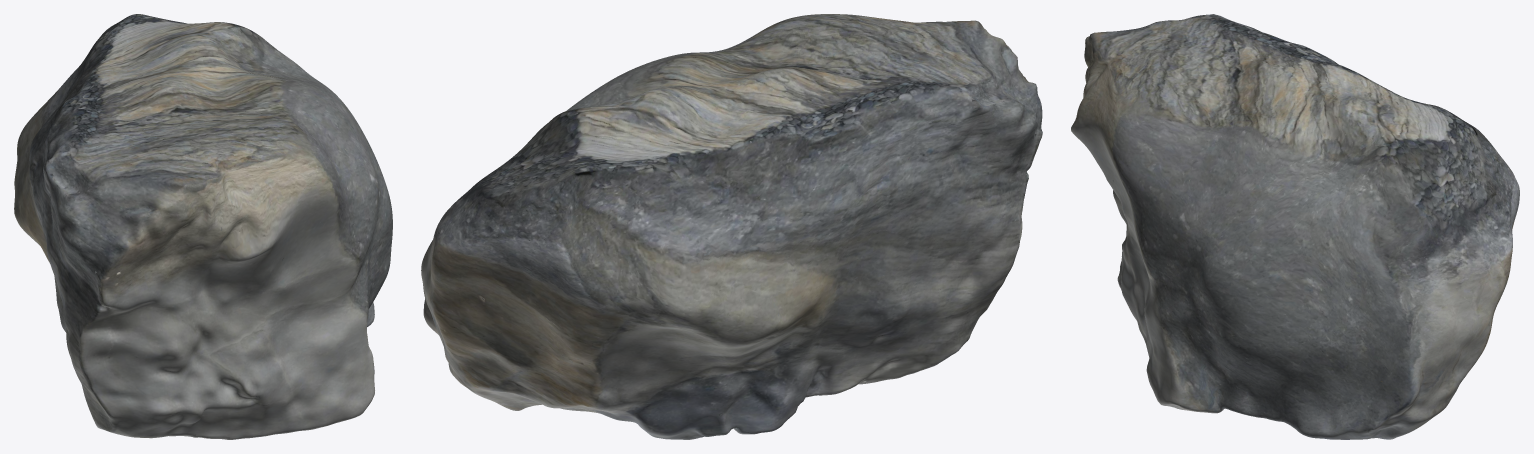
The model's file is GrayRock1.fbx.
3 renders of one model, left to right at view 1: azimuth 30°, elevation 25°; view 2: azimuth 150°, elevation 25°; view 3: azimuth 270°, elevation 25°, orthographic. The views are drawn at different scales.
Parts seen in each view (by area): view 1: Mesh_0.001; view 2: Mesh_0.001; view 3: Mesh_0.001.
Boxes of the visible parts, x1=… form: Mesh_0.001: x1=14, y1=14, x2=392, y2=439; Mesh_0.001: x1=421, y1=14, x2=1042, y2=439; Mesh_0.001: x1=1071, y1=14, x2=1519, y2=439.
Bounding box in the file's own units: 196 × 141 × 197.
Materials: 1 (1 with a texture image).
